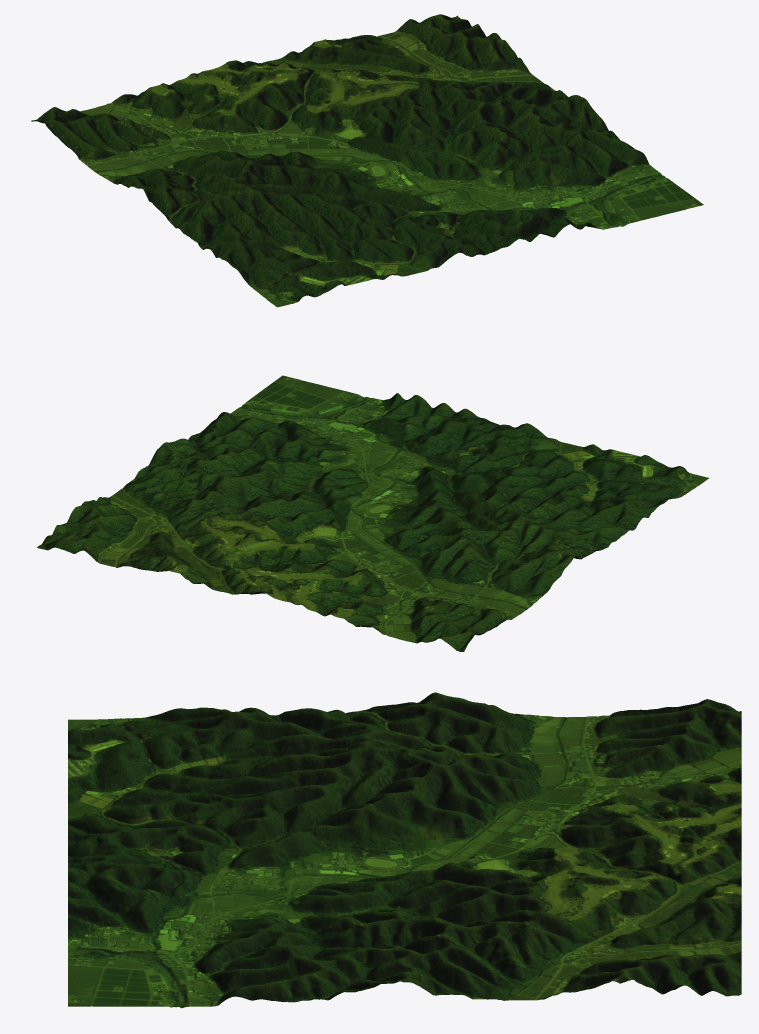
The model's file is tomino 20260914 245m.glb.
3 renders of one model, top to bottom at view 1: azimuth 30°, elevation 25°; view 2: azimuth 150°, elevation 25°; view 3: azimuth 270°, elevation 25°, orthographic. The views are drawn at different scales.
Parts seen in each view (by area): view 1: tominodem; view 2: tominodem; view 3: tominodem.
Part boxes in pixels (left/top/right/bottom): tominodem: left=31, top=14, right=703, bottom=307; tominodem: left=37, top=375, right=708, bottom=651; tominodem: left=68, top=692, right=741, bottom=1008.
Bounding box in the file's own units: 162 × 8.03 × 162.
Materials: 1 (1 with a texture image).
